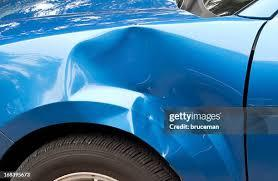dent: (64, 19, 227, 175)
